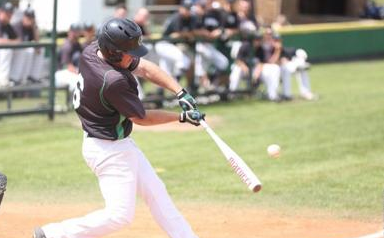ball: (266, 143, 282, 160)
